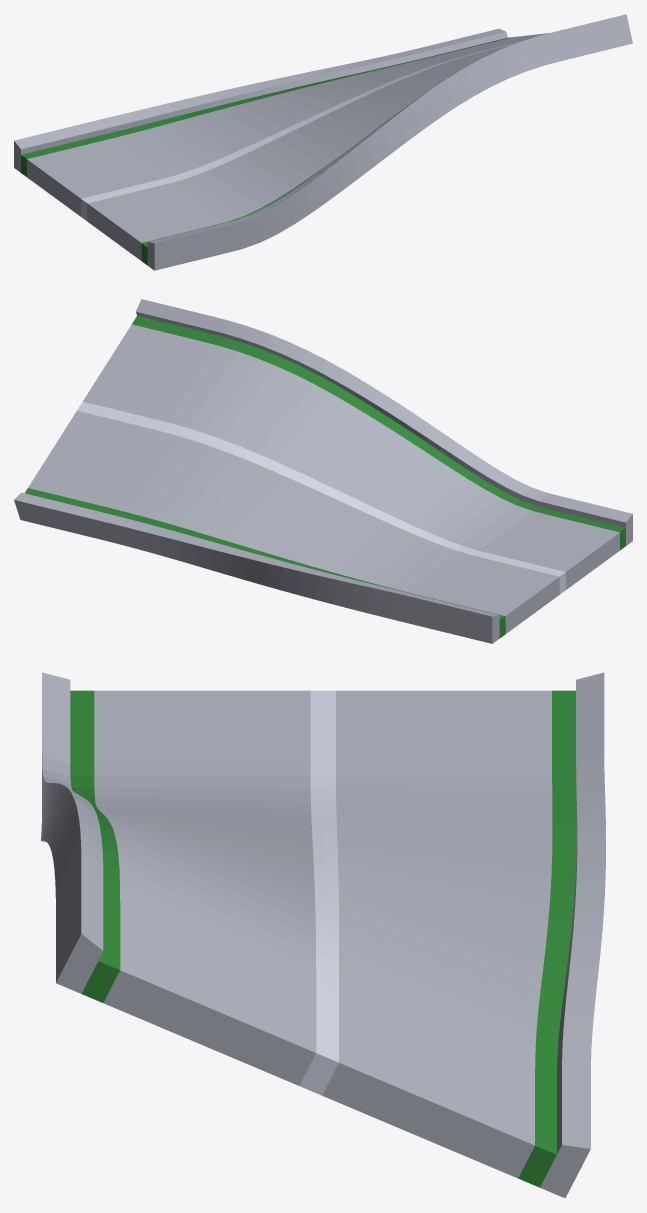
Rendered from tilted_road_left.glb.
The picture shows the model from 3 angles, top to bottom: view 1: azimuth 30°, elevation 25°; view 2: azimuth 150°, elevation 25°; view 3: azimuth 270°, elevation 25°; orthographic projection. The views are drawn at different scales.
Visible parts, largest first — view 1: tilted_road_left; view 2: tilted_road_left; view 3: tilted_road_left.
Boxes of the visible parts, x1,y1,x2,y2 form: tilted_road_left: (14, 14, 632, 270); tilted_road_left: (14, 299, 632, 643); tilted_road_left: (41, 672, 605, 1198).
Size of the model in its own units: 27.71 by 7.28 by 14.08.
